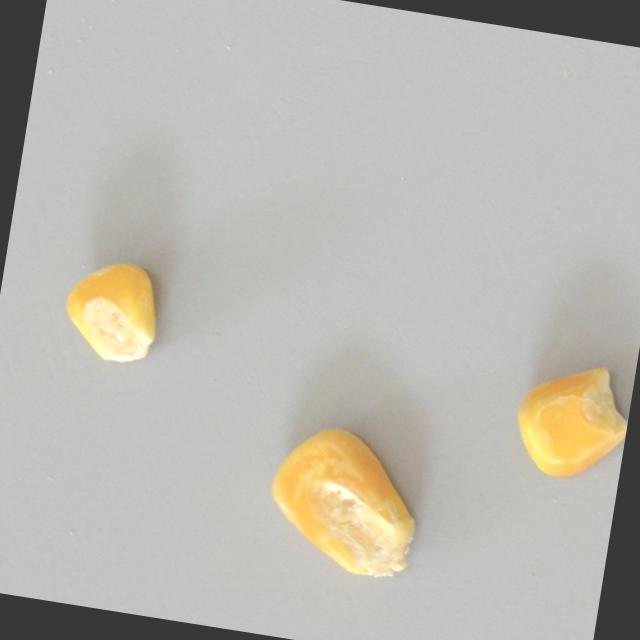no_desgerminado: (255, 411, 433, 589), (507, 352, 636, 487), (53, 247, 171, 370)
